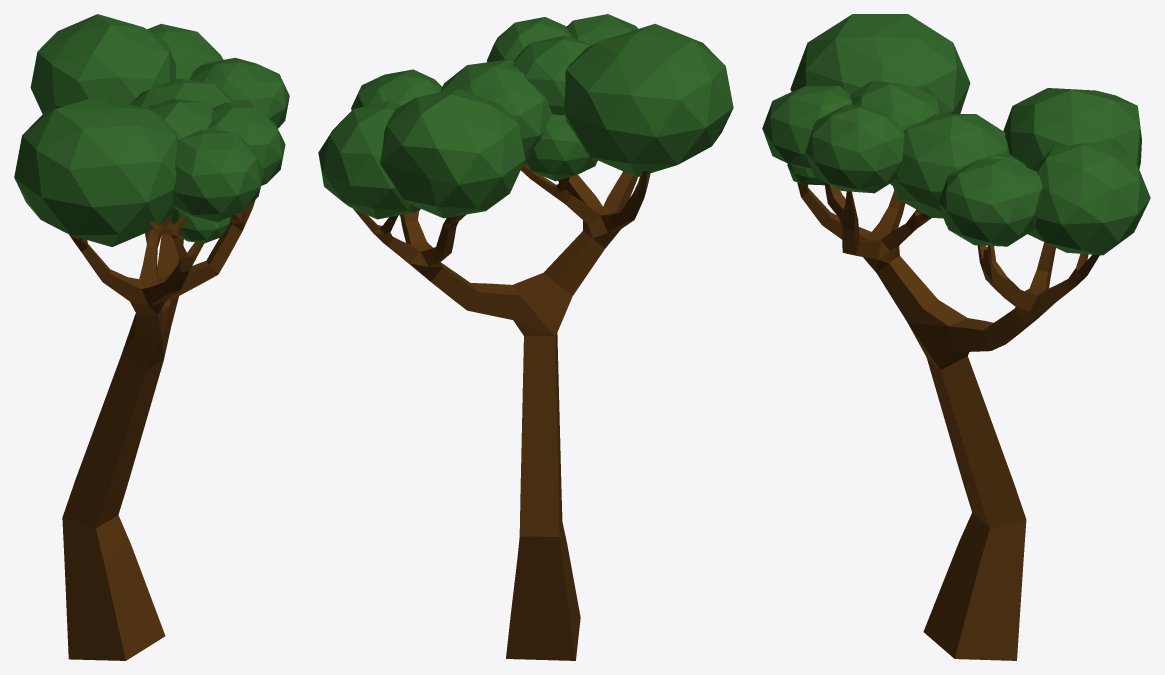
The model's file is Tree3.fbx.
3 renders of one model, left to right at view 1: azimuth 30°, elevation 25°; view 2: azimuth 150°, elevation 25°; view 3: azimuth 270°, elevation 25°, orthographic.
Visible parts, largest first — view 1: Tree3; view 2: Tree3; view 3: Tree3.
Boxes of the visible parts, x1,y1,x2,y2 form: Tree3: [14, 14, 289, 660]; Tree3: [318, 14, 733, 660]; Tree3: [762, 14, 1150, 660].
Bounding box in the file's own units: 931 × 1704 × 1008.
